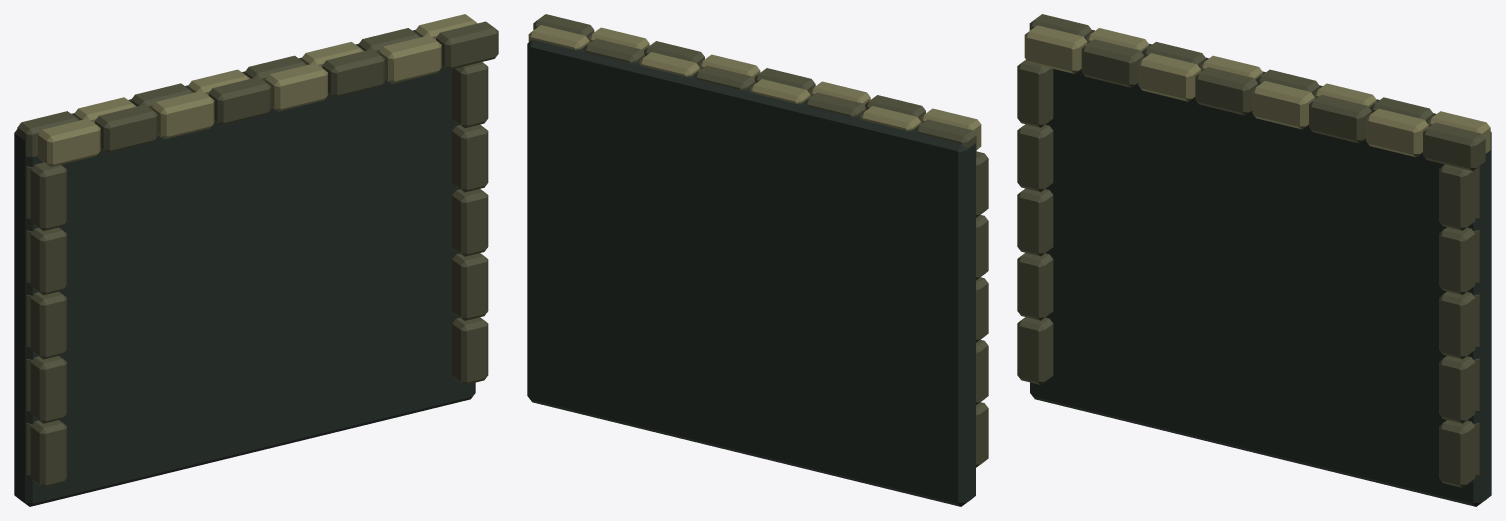
File: CottageFoundation.obj
3 views of the same model, side by side, from view 1: azimuth 30°, elevation 25°; view 2: azimuth 150°, elevation 25°; view 3: azimuth 330°, elevation 25° (orthographic). The views are drawn at different scales.
Visible parts, largest first — view 1: CottageFoundation; view 2: CottageFoundation; view 3: CottageFoundation.
Boxes of the visible parts, left/top/right/bottom form: CottageFoundation: left=14, top=14, right=498, bottom=506; CottageFoundation: left=527, top=14, right=988, bottom=506; CottageFoundation: left=1017, top=14, right=1491, bottom=506.
Size of the model in its own units: 470 by 370 by 52.
